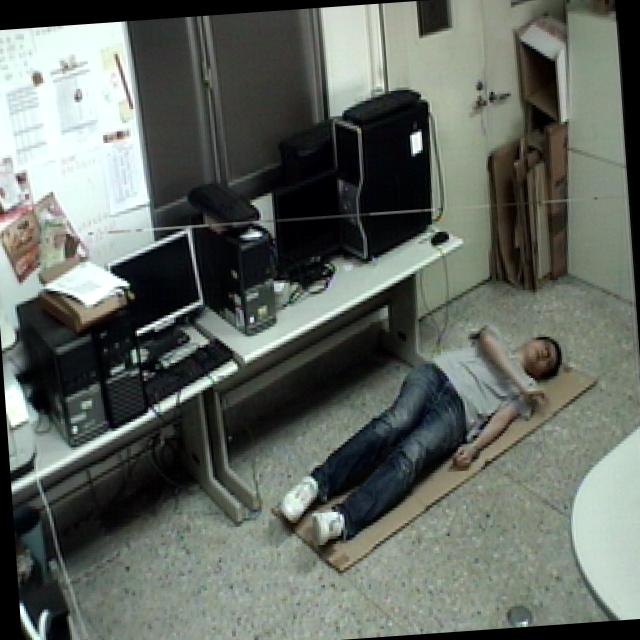lie: (260, 306, 586, 560)
